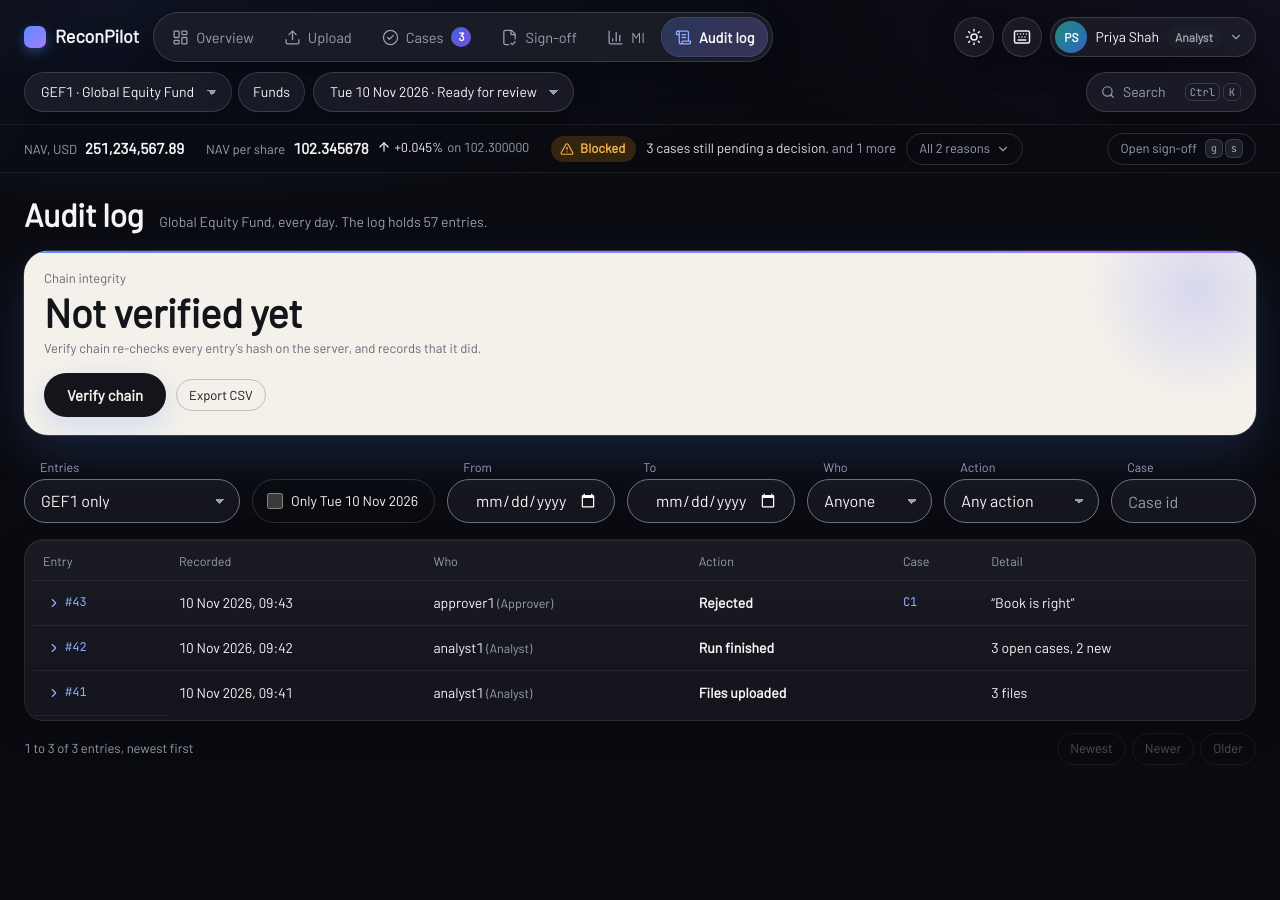
it: audit log › opens an entry's full record with the server's check of it
Expected: the heading "Audit log" is shown, x1=24 y1=195 x2=143 y2=233
Expected: the table named "Audit log entries" is shown, x1=33 y1=544 x2=1247 y2=716
Click the button named "Entry 43: show its full record" at (69, 602), box x1=43 y1=586 x2=95 y2=618
(page scrolled)
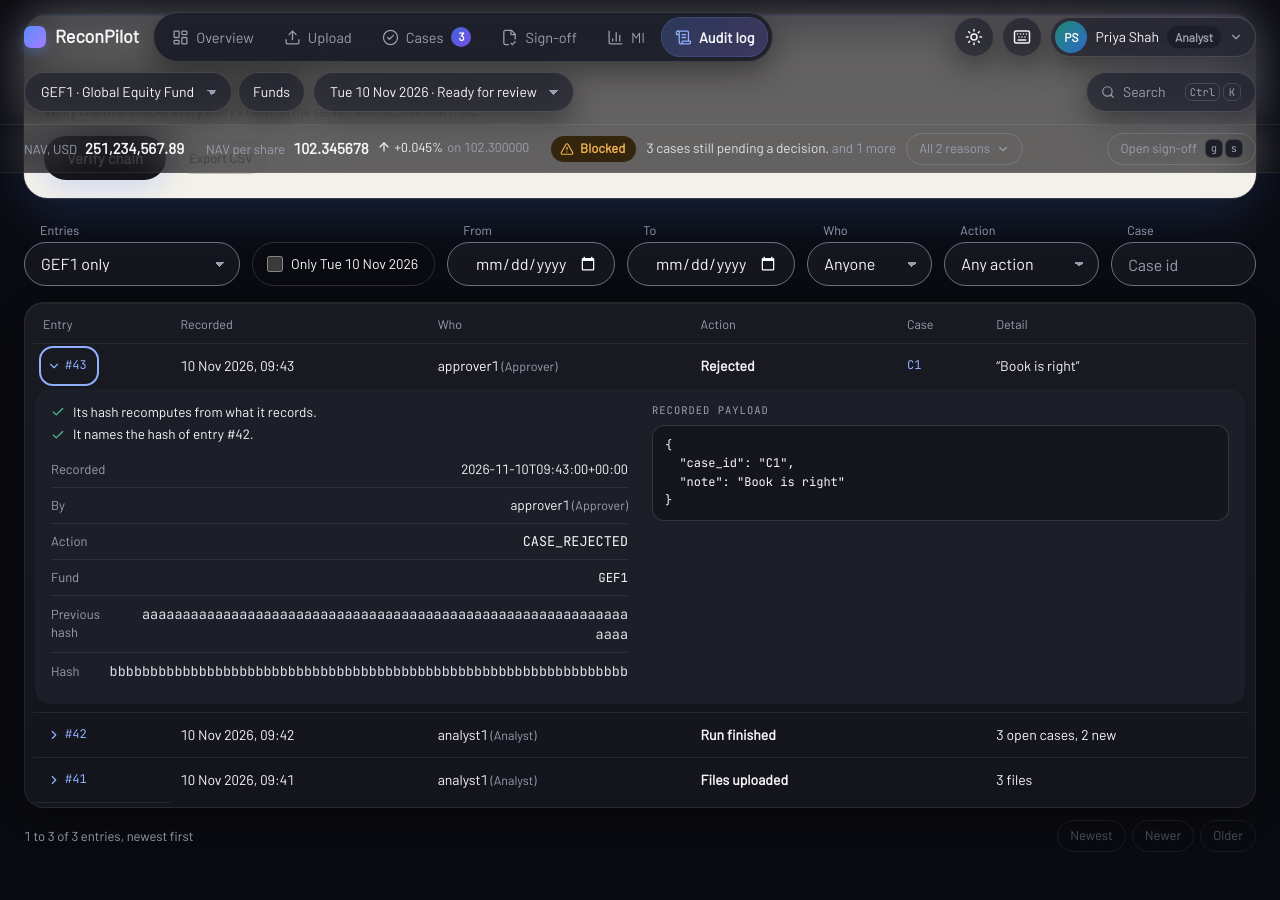
Result: the button named "Entry 43: show its full record" is expanded at x1=43 y1=350 x2=95 y2=382
Result: the text "Its hash recomputes from what it records." is shown at x1=73 y1=402 x2=317 y2=421
Result: the text "It names the hash of entry #42." is shown at x1=73 y1=425 x2=254 y2=444
Click the button named "Entry 42: show its full record" at (69, 735), box x1=43 y1=719 x2=95 y2=751
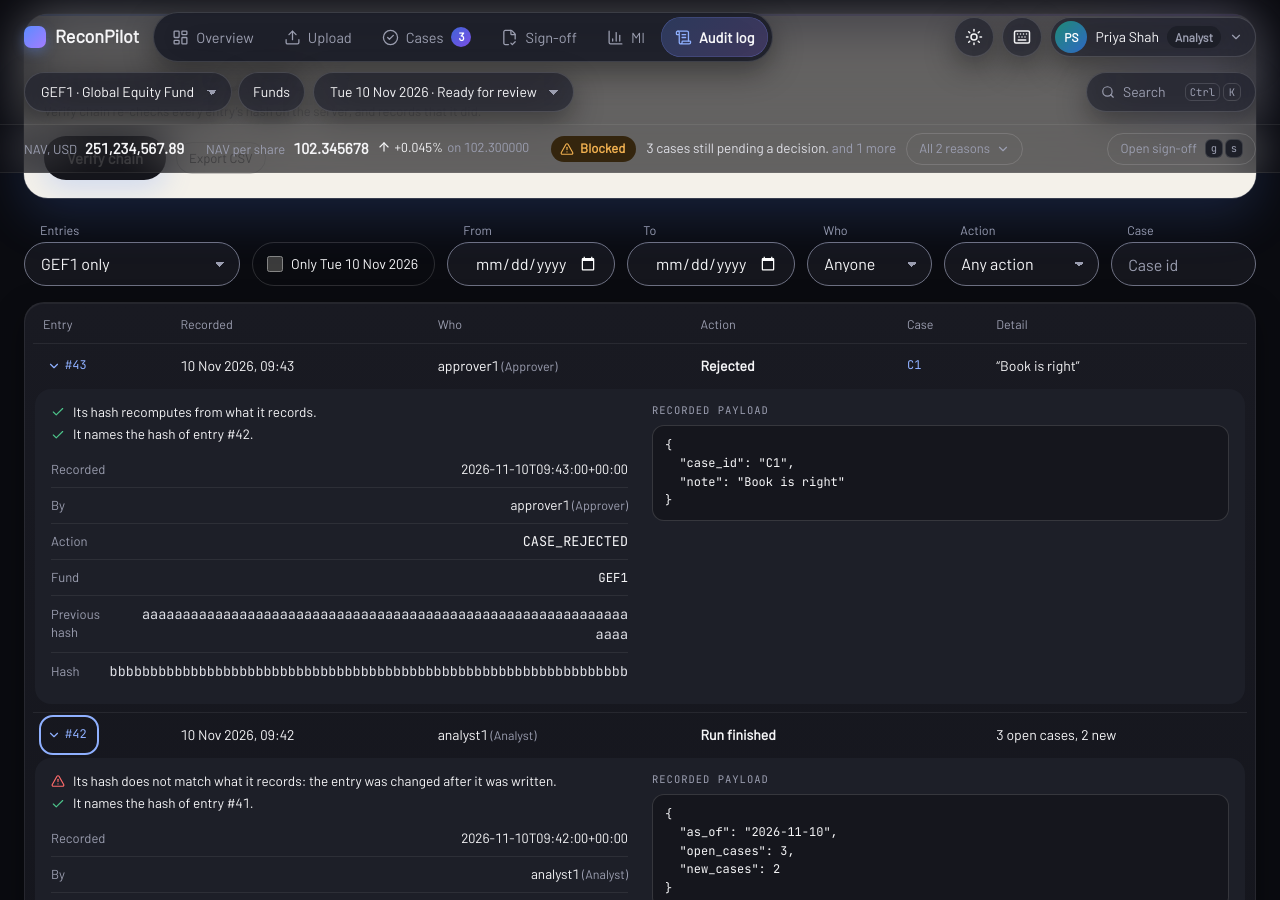
Result: the text "Its hash does not match what it records: the entry was changed after it was written." is shown at x1=73 y1=772 x2=557 y2=789
